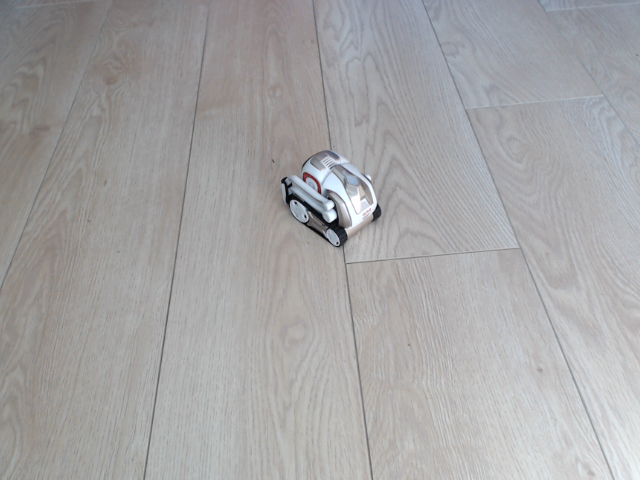block: (278, 149, 384, 247)
